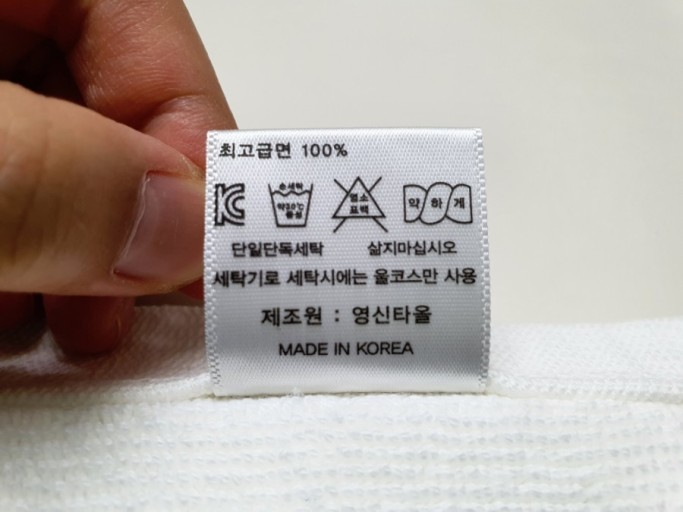KR_gentle_wring: (400, 173, 478, 231)
KR_hand_wash_30_neutral: (265, 177, 320, 230)
KR_no_chlorine_bleach: (329, 177, 387, 233)
